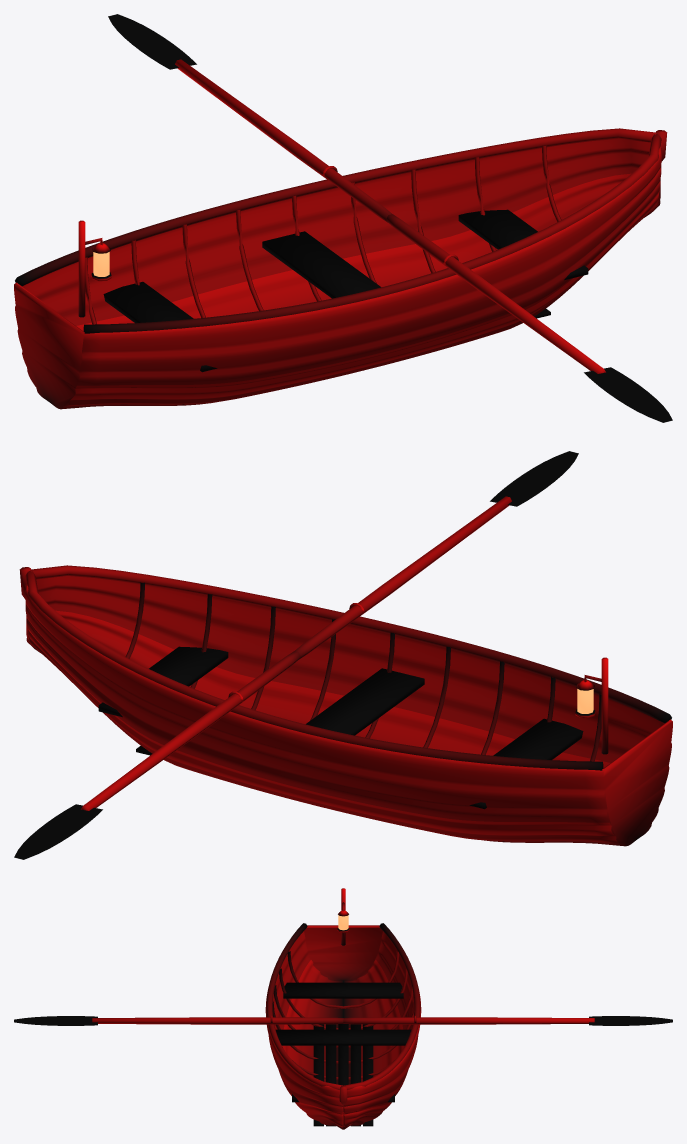
File: boat.glb
3 views of the same model, one above another, from view 1: azimuth 30°, elevation 25°; view 2: azimuth 150°, elevation 25°; view 3: azimuth 270°, elevation 25° (orthographic). The views are drawn at different scales.
Parts seen in each view (by area): view 1: Boat, BoatDetail, OarR, OarL, Lantern; view 2: Boat, BoatDetail, OarL, OarR, Lantern; view 3: Boat, BoatDetail, OarL, OarR, Lantern.
Part boxes in pixels (x1=…): Boat: x1=14, y1=139, x2=661, y2=409; BoatDetail: x1=15, y1=128, x2=667, y2=404; OarR: x1=386, y1=214, x2=672, y2=422; OarL: x1=108, y1=14, x2=391, y2=222; Lantern: x1=78, y1=220, x2=111, y2=317; Boat: x1=25, y1=576, x2=672, y2=846; BoatDetail: x1=19, y1=565, x2=671, y2=841; OarL: x1=14, y1=651, x2=300, y2=859; OarR: x1=295, y1=451, x2=578, y2=659; Lantern: x1=575, y1=657, x2=608, y2=754; Boat: x1=265, y1=925, x2=421, y2=1129; BoatDetail: x1=266, y1=923, x2=420, y2=1126; OarL: x1=343, y1=1016, x2=672, y2=1025; OarR: x1=14, y1=1016, x2=343, y2=1025; Lantern: x1=337, y1=888, x2=349, y2=945.
Bounding box in the file's own units: 3.78 × 1.14 × 5.88.
